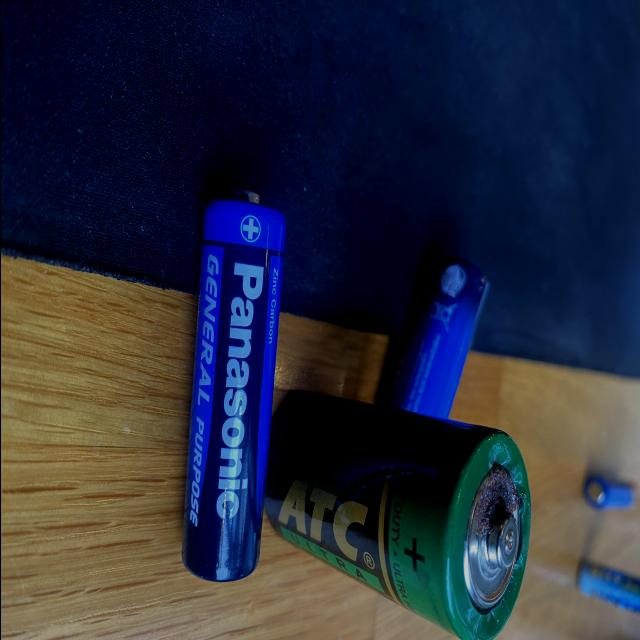AA: (180, 188, 286, 582)
